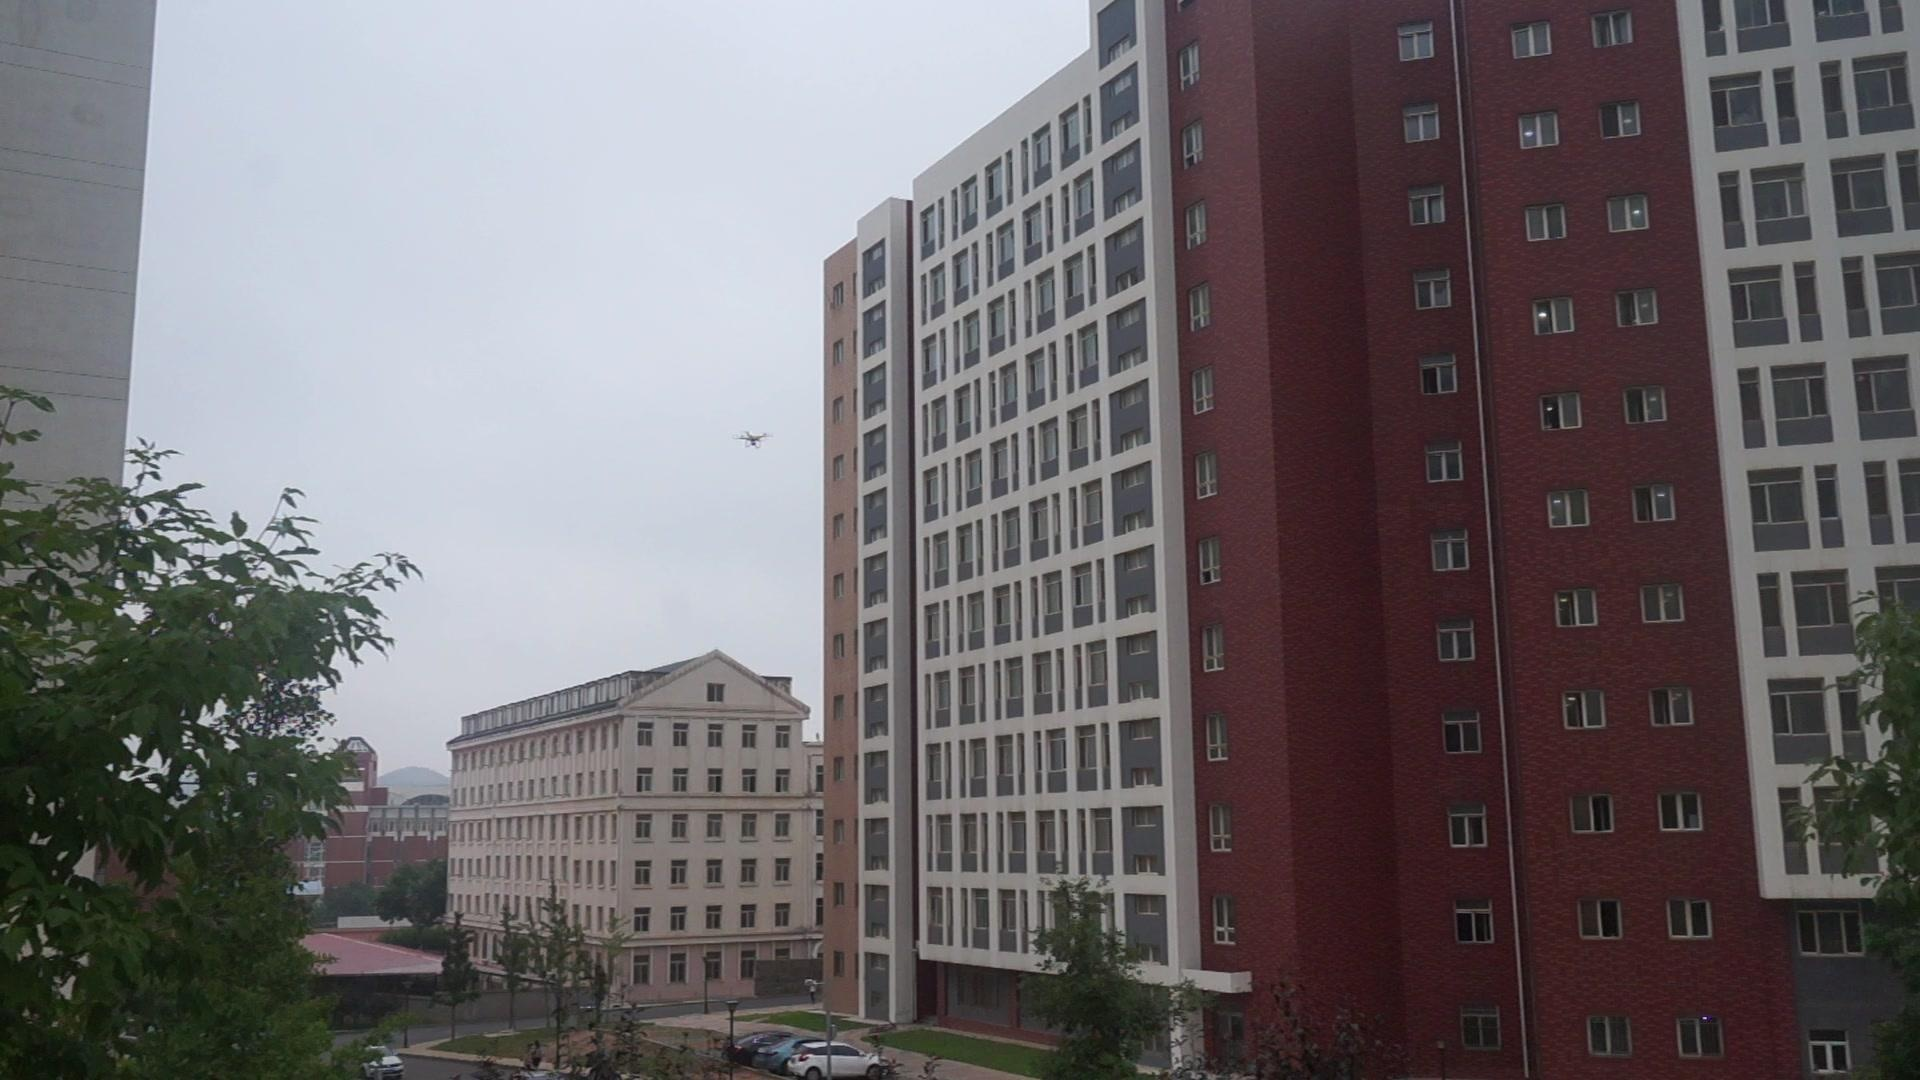UAV: (733, 433, 774, 450)
